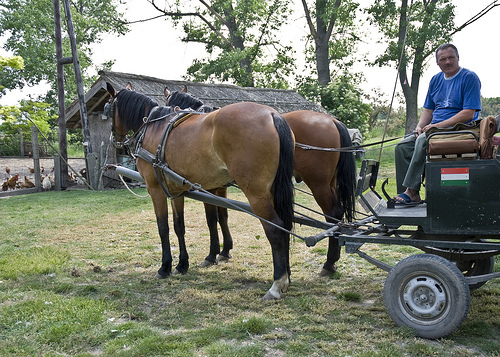horse: (102, 85, 297, 304), (163, 80, 357, 279)
